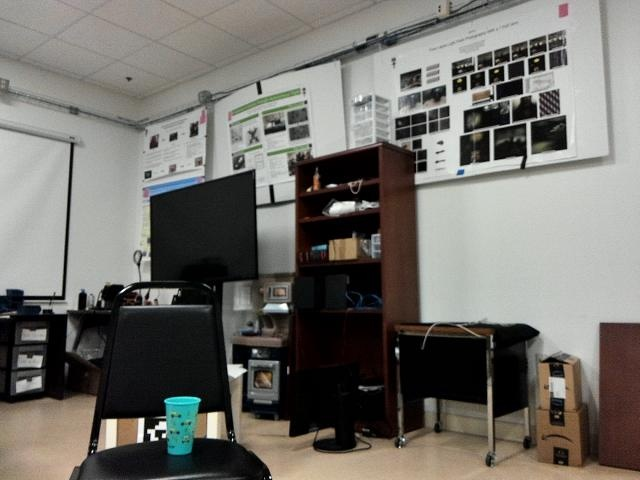coffee_cup: (164, 393, 200, 455)
